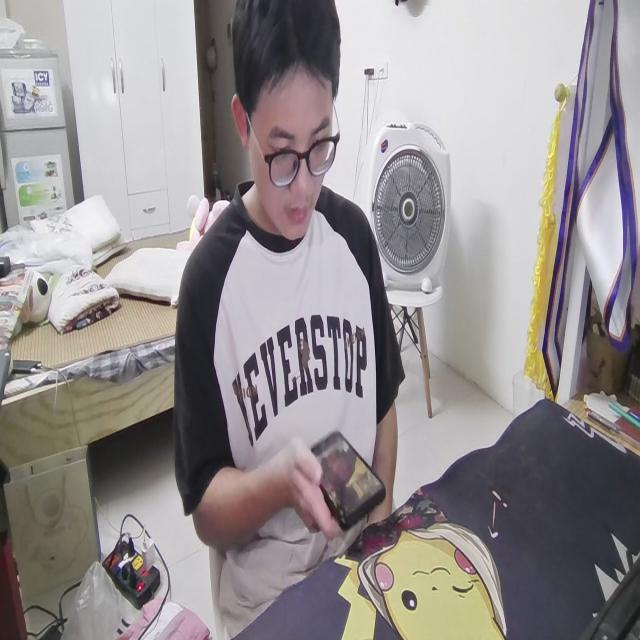phone: (306, 424, 388, 530)
student: (174, 0, 396, 614)
